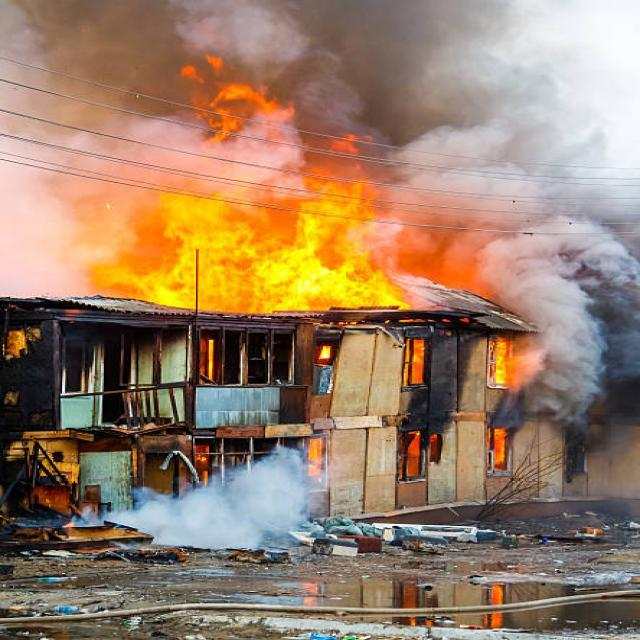Fire: (111, 106, 410, 362), (367, 296, 597, 452)
Smoke: (0, 9, 640, 296), (492, 217, 640, 410)
